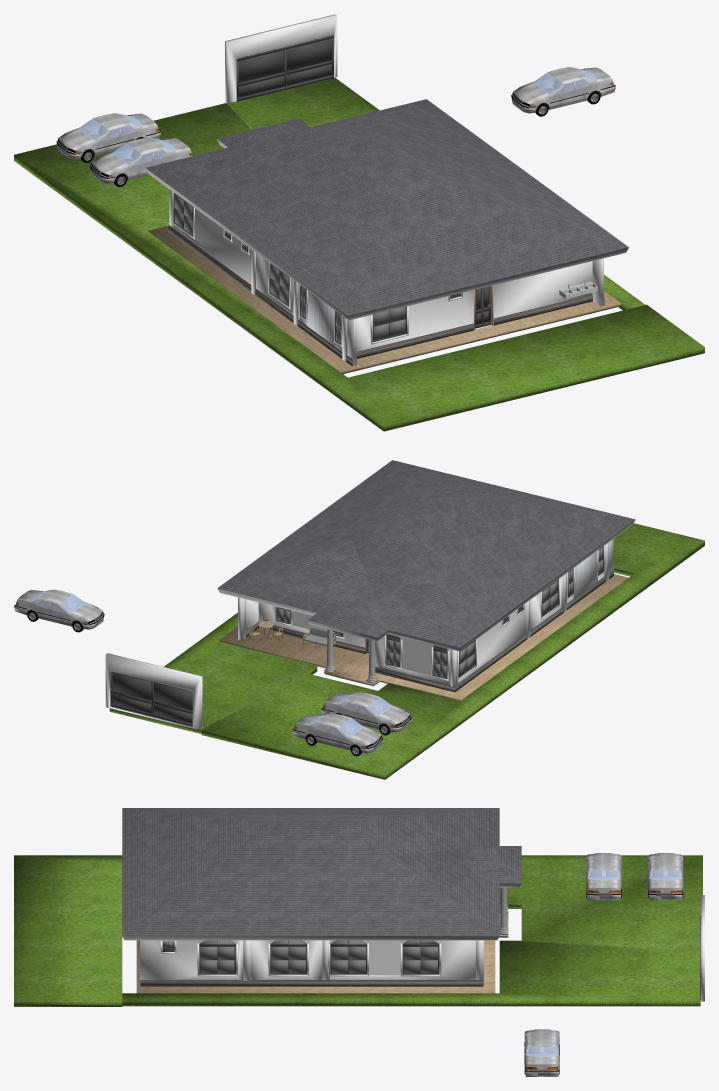
3 views of the same model, one above another, from view 1: azimuth 30°, elevation 25°; view 2: azimuth 150°, elevation 25°; view 3: azimuth 270°, elevation 25° (orthographic). The views are drawn at different scales.
Visible parts, largest first — view 1: kitengela3br; view 2: kitengela3br; view 3: kitengela3br.
Boxes of the visible parts, x1,y1,x2,y2 form: kitengela3br: [14, 14, 704, 431]; kitengela3br: [14, 460, 704, 779]; kitengela3br: [14, 808, 704, 1076].
Bounding box in the file's own units: 95.16 × 21.74 × 121.
32 materials, 15 textured.
